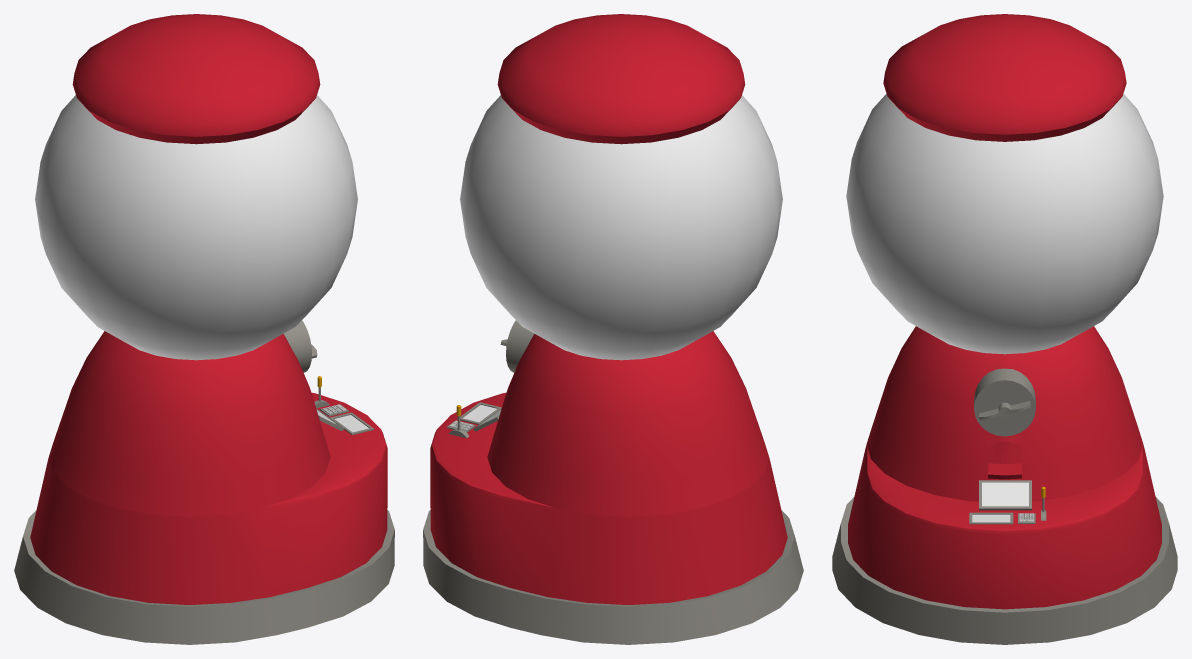
File: substance_machine.fbx
3 views of the same model, side by side, from view 1: azimuth 30°, elevation 25°; view 2: azimuth 150°, elevation 25°; view 3: azimuth 270°, elevation 25° (orthographic).
Parts seen in each view (by area): view 1: Sphere, Machine_bottom, Machine_upperpart, Sphere_Top, Machine_spincontroll; view 2: Sphere, Machine_bottom, Machine_upperpart, Sphere_Top, Machine_spincontroll; view 3: Sphere, Machine_bottom, Machine_upperpart, Sphere_Top, Machine_spincontroll, Frame, Display, Cylinder.005.
Boxes of the visible parts, left/top/right/bottom form: Sphere: left=35, top=95, right=357, bottom=360; Machine_bottom: left=14, top=392, right=394, bottom=644; Machine_upperpart: left=48, top=331, right=330, bottom=516; Sphere_Top: left=72, top=14, right=320, bottom=144; Machine_spincontroll: left=283, top=320, right=311, bottom=372; Sphere: left=460, top=95, right=782, bottom=360; Machine_bottom: left=423, top=392, right=803, bottom=644; Machine_upperpart: left=487, top=331, right=769, bottom=516; Sphere_Top: left=497, top=14, right=745, bottom=144; Machine_spincontroll: left=506, top=320, right=534, bottom=372; Sphere: left=846, top=94, right=1163, bottom=354; Machine_bottom: left=832, top=445, right=1177, bottom=644; Machine_upperpart: left=866, top=326, right=1143, bottom=501; Sphere_Top: left=883, top=14, right=1126, bottom=141; Machine_spincontroll: left=974, top=368, right=1035, bottom=436; Frame: left=982, top=482, right=1028, bottom=506; Display: left=979, top=480, right=1031, bottom=510; Cylinder.005: left=979, top=401, right=1030, bottom=419.
Bounding box in the file's own units: 298 × 460 × 271.
